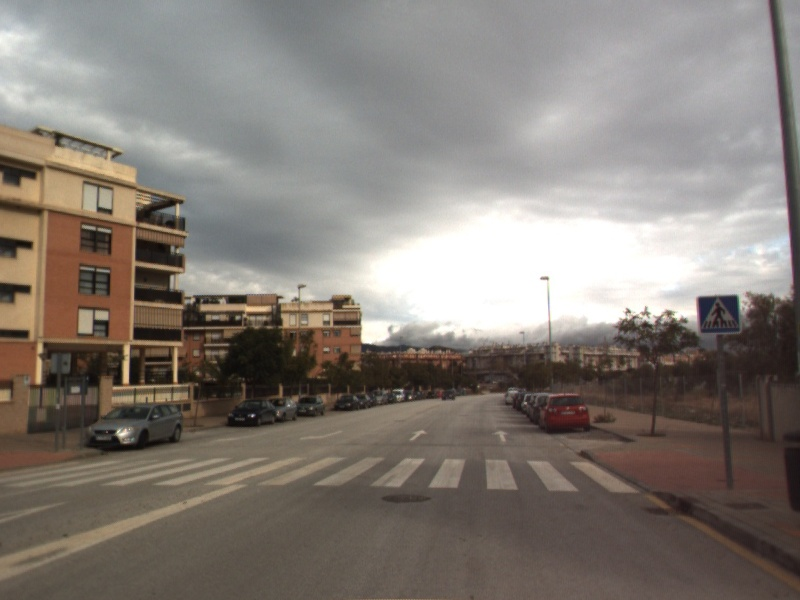STRAIGHT: (407, 427, 430, 442), (490, 428, 511, 444)
